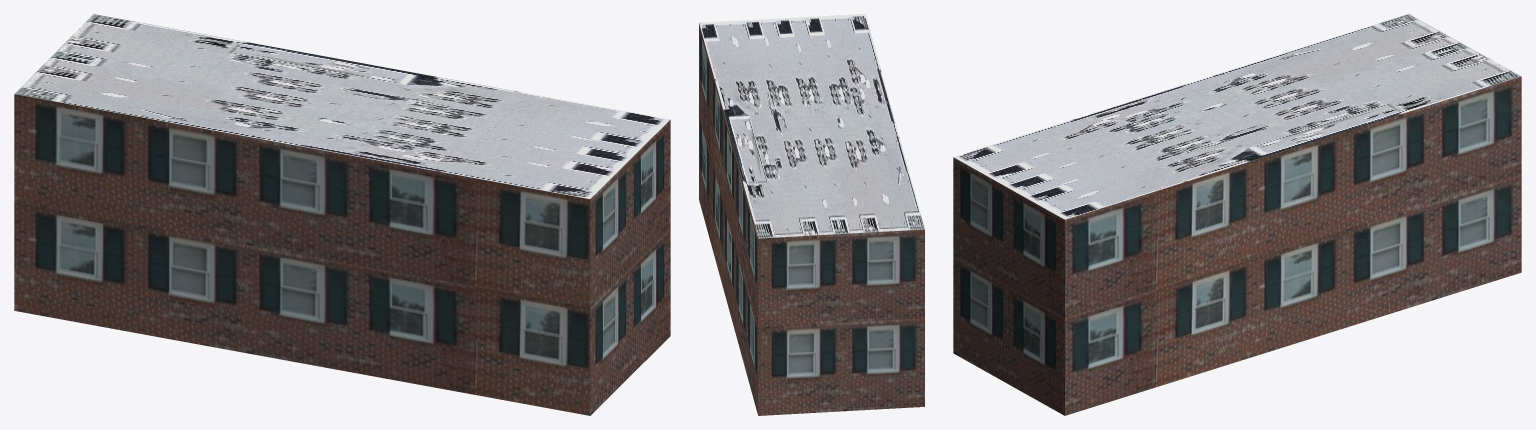
Rendered from ResTex__2374.fbx.
3 views of the same model, side by side, from view 1: azimuth 30°, elevation 25°; view 2: azimuth 150°, elevation 25°; view 3: azimuth 270°, elevation 25° (orthographic). The views are drawn at different scales.
Visible parts, largest first — view 1: CityEngineMaterial_14_m, CityEngineMaterial_4_m; view 2: CityEngineMaterial_14_m, CityEngineMaterial_4_m; view 3: CityEngineMaterial_14_m, CityEngineMaterial_4_m.
Boxes of the visible parts, bbox=[...] form: CityEngineMaterial_14_m: bbox=[14, 94, 670, 415]; CityEngineMaterial_4_m: bbox=[15, 14, 670, 198]; CityEngineMaterial_14_m: bbox=[699, 23, 924, 415]; CityEngineMaterial_4_m: bbox=[699, 14, 924, 238]; CityEngineMaterial_14_m: bbox=[953, 76, 1521, 415]; CityEngineMaterial_4_m: bbox=[953, 14, 1521, 219].
Size of the model in its own units: 13.5 by 6 by 15.76.
2 materials, 2 textured.
